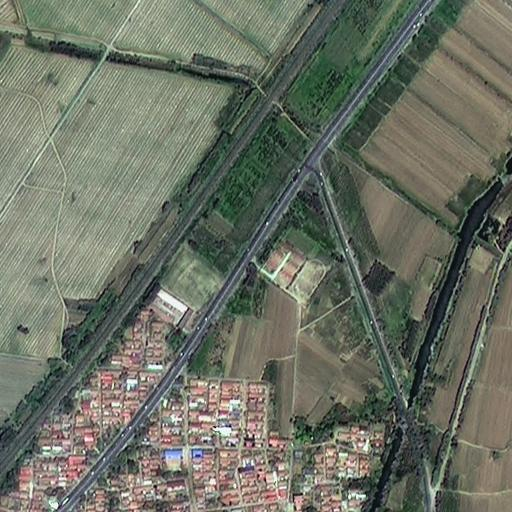school: (260, 244, 328, 303)
